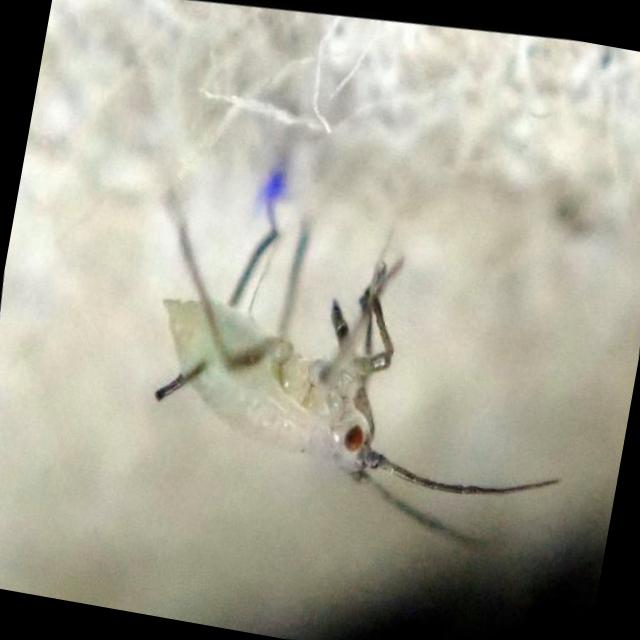aphid: (88, 124, 604, 600)
